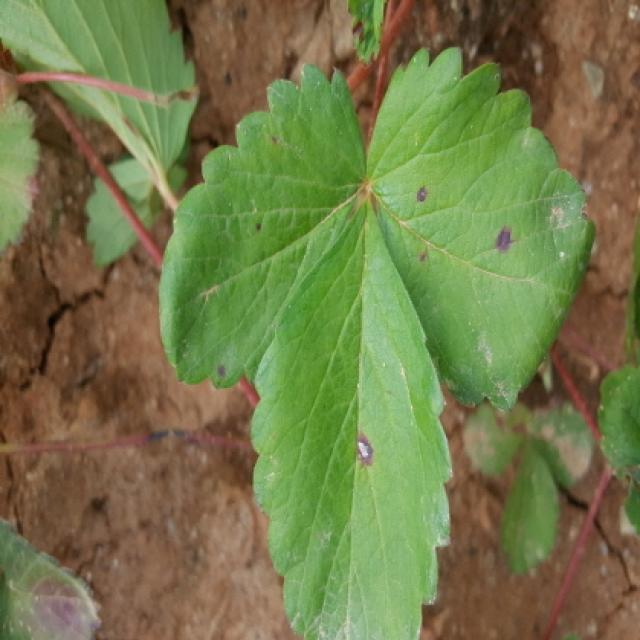Leaf Spot: (250, 192, 453, 638), (366, 46, 597, 414), (159, 62, 367, 387), (0, 67, 43, 266), (461, 400, 532, 478)
